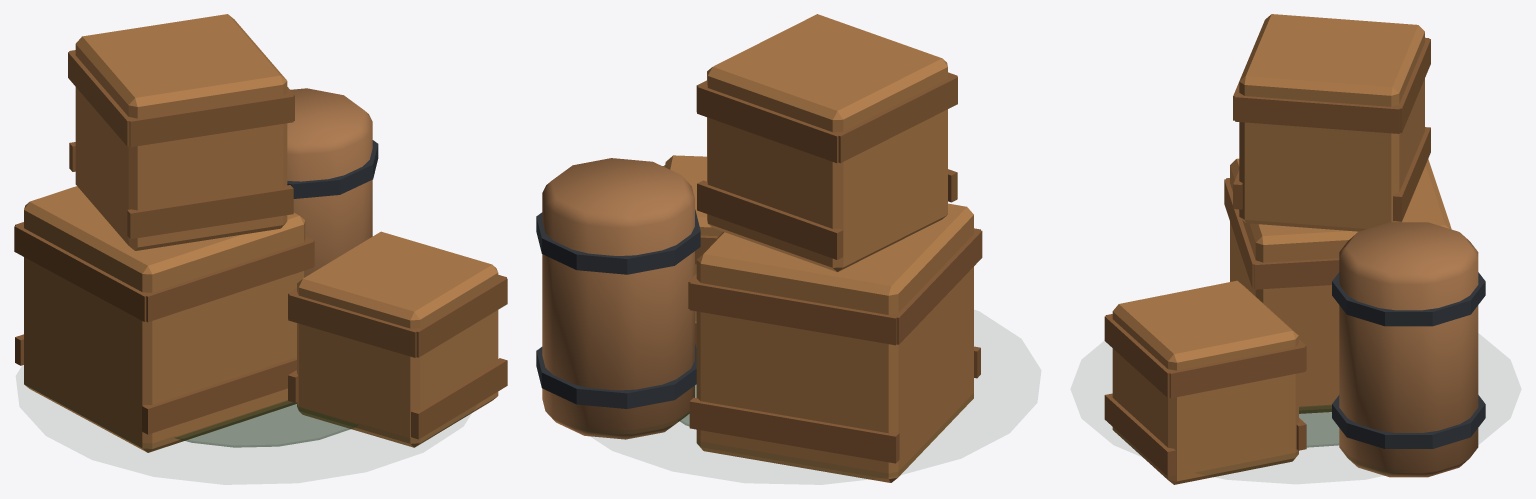
Rendered from crates.glb.
3 renders of one model, left to right at view 1: azimuth 30°, elevation 25°; view 2: azimuth 150°, elevation 25°; view 3: azimuth 270°, elevation 25°, orthographic. The views are drawn at different scales.
Visible parts, largest first — view 1: crates; view 2: crates; view 3: crates.
Boxes of the visible parts, left/top/right/bottom form: crates: left=14, top=14, right=507, bottom=452; crates: left=536, top=14, right=982, bottom=482; crates: left=1104, top=14, right=1485, bottom=484.
Size of the model in its own units: 1 by 0.8 by 1.
